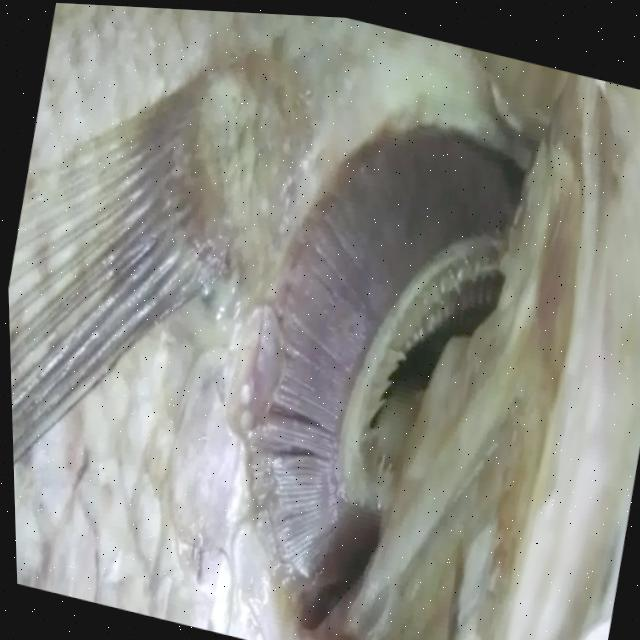Non-Fresh: (185, 63, 551, 640)
